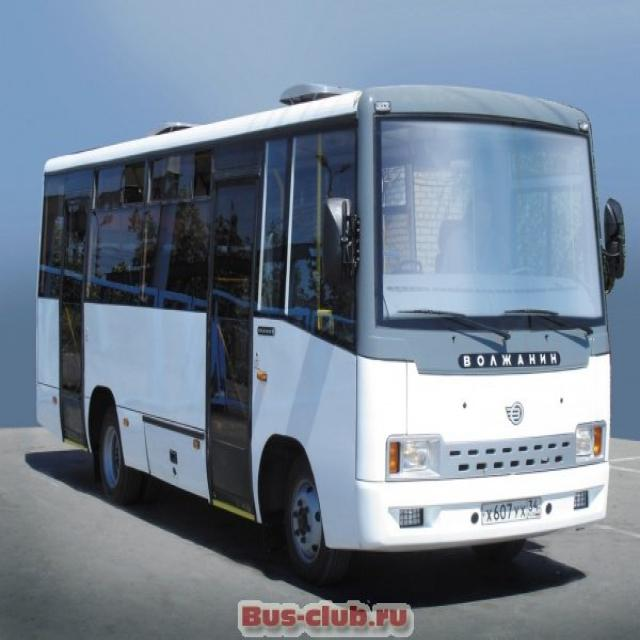bus: (30, 32, 640, 604)
